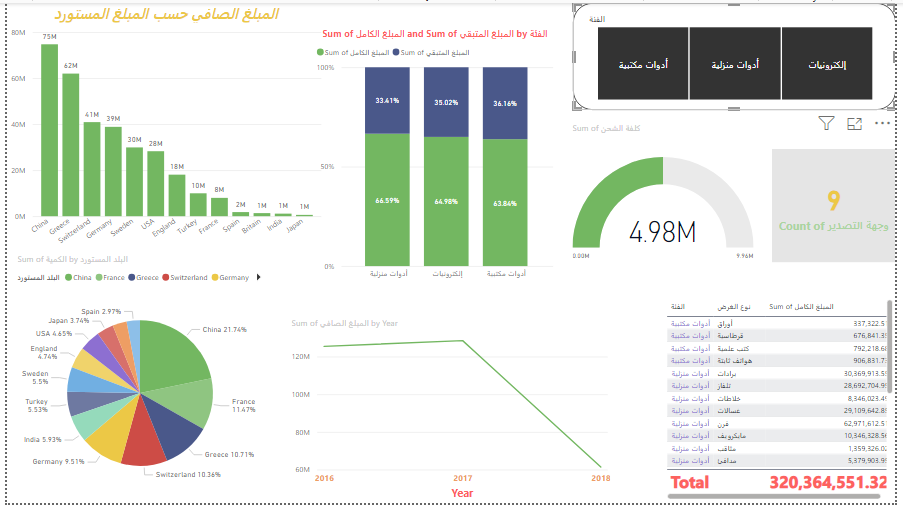

This screenshot's page, from the dashboard's own definition file:
{"tool":"powerbi","page":{"name":"Page 1","canvas":[1280,720],"ordinal":0},"visuals":[{"type":"columnChart","title":"المبلغ الصافي حسب المبلغ المستورد","fields":{"Category":["Table1.البلد المستورد"],"Y":["Sum(Table1.المبلغ الصافي)"]},"box":[0,0,457.9,360],"z":0},{"type":"pieChart","fields":{"Category":["Table1.البلد المستورد"],"Y":["Sum(Table1.الكمية)"]},"box":[10.1,360,362.9,360],"z":1000},{"type":"lineChart","fields":{"Y":["Sum(Table1.المبلغ الصافي)"],"Category":["Table1.تاريخ الاستيراد.Variation.Date Hierarchy.Year","Table1.تاريخ الاستيراد.Variation.Date Hierarchy.Quarter","Table1.تاريخ الاستيراد.Variation.Date Hierarchy.Month","Table1.تاريخ الاستيراد.Variation.Date Hierarchy.Day"]},"box":[404.6,452.2,469.4,267.8],"z":2000},{"type":"hundredPercentStackedColumnChart","fields":{"Y":["Sum(Table1.المبلغ الكامل)","Sum(Table1.المبلغ المتبقي)"],"Category":["Table1.الفئة"]},"box":[440.6,34.6,351.4,373],"z":3000},{"type":"tableEx","fields":{"Values":["Table1.الفئة","Table1.نوع الغرض","Sum(Table1.المبلغ الكامل)"]},"box":[944.6,421.9,335.5,298.1],"z":4000},{"type":"card","fields":{"Values":["Count(Table1.وجهة التصدير)"]},"box":[1101.6,210.2,178.6,162.7],"z":5000},{"type":"slicer","fields":{"Values":["Table1.الفئة"]},"box":[815,0,465.1,154.1],"z":6000},{"type":"gauge","fields":{"Y":["Sum(Table1.كلفة الشحن)"]},"box":[809.3,171.4,270.7,236.2],"z":7000}]}

Visuals, with their boxes in screenshot pixels (x1, y1, x2, y2), scaled from the page's 1280x720 canvas onto the 903x508 screenshot:
"المبلغ الصافي حسب المبلغ المستورد" columnChart: 0, 0, 323, 254
pieChart - Table1.البلد المستورد x Sum(Table1.الكمية): 7, 254, 263, 507
lineChart - Sum(Table1.المبلغ الصافي) x Table1.تاريخ الاستيراد.Variation.Date Hierarchy.Year: 285, 319, 617, 507
hundredPercentStackedColumnChart - Sum(Table1.المبلغ الكامل) x Sum(Table1.المبلغ المتبقي): 311, 24, 559, 288
tableEx - Table1.الفئة x Table1.نوع الغرض: 666, 298, 902, 507
card - Count(Table1.وجهة التصدير): 777, 148, 902, 263
slicer - Table1.الفئة: 575, 0, 902, 109
gauge - Sum(Table1.كلفة الشحن): 571, 121, 762, 288
